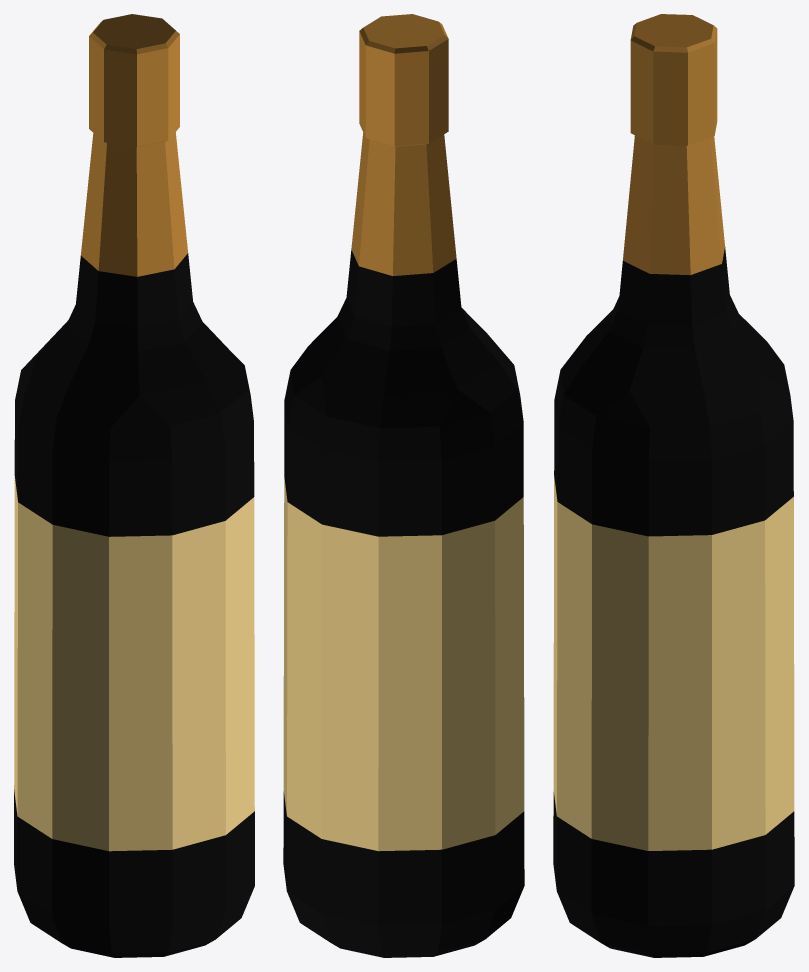
The model's file is Wine 6.fbx.
3 renders of one model, left to right at view 1: azimuth 30°, elevation 25°; view 2: azimuth 150°, elevation 25°; view 3: azimuth 270°, elevation 25°, orthographic.
Visible parts, largest first — view 1: Node 0; view 2: Node 0; view 3: Node 0.
Boxes of the visible parts, x1,y1,x2,y2 form: Node 0: [14, 14, 254, 957]; Node 0: [283, 14, 524, 957]; Node 0: [553, 14, 794, 957].
Bounding box in the file's own units: 0.0723 × 0.2936 × 0.0723.
